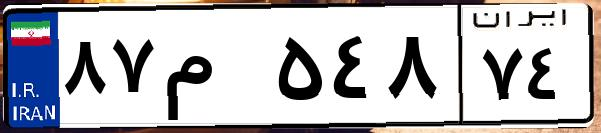4: (330, 28, 385, 110), (525, 38, 570, 115)
5: (270, 28, 330, 110)
7: (475, 38, 525, 113), (110, 28, 158, 98)
8: (385, 28, 445, 110), (57, 26, 110, 100)
م: (158, 20, 270, 120)
